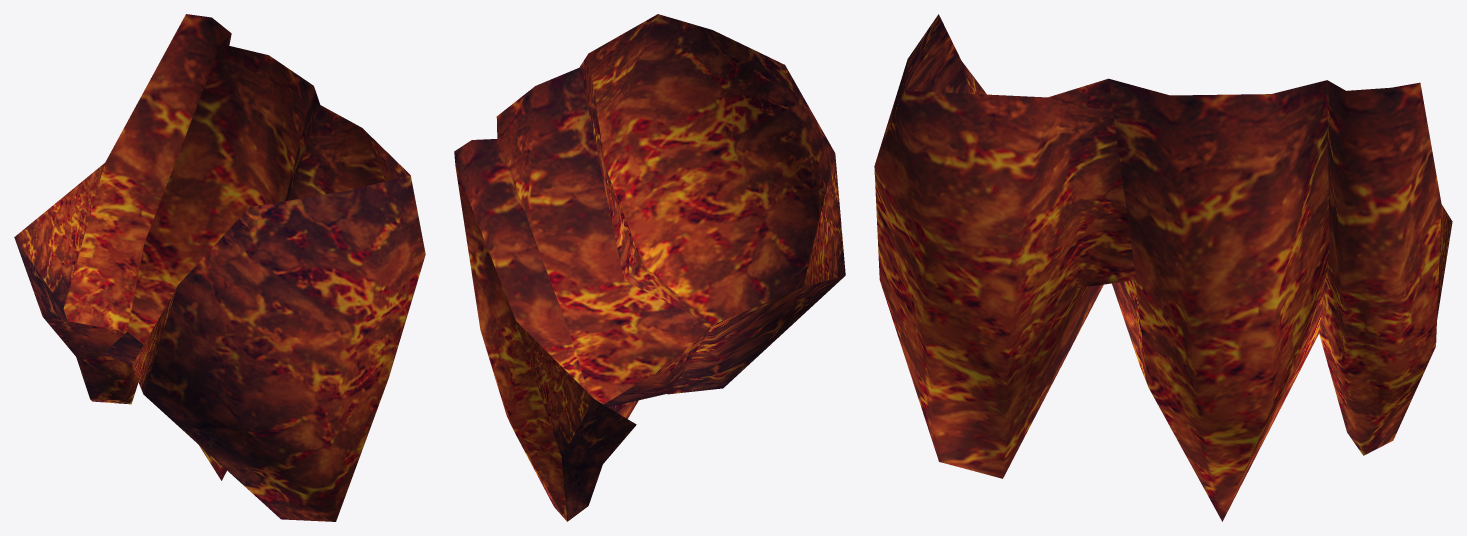
The model's file is Scene_rongyan_003.FBX.
3 renders of one model, left to right at view 1: azimuth 30°, elevation 25°; view 2: azimuth 150°, elevation 25°; view 3: azimuth 270°, elevation 25°, orthographic. The views are drawn at different scales.
Visible parts, largest first — view 1: Scene_rongyan_003; view 2: Scene_rongyan_003; view 3: Scene_rongyan_003.
Boxes of the visible parts, x1,y1,x2,y2 form: Scene_rongyan_003: (14, 14, 425, 521); Scene_rongyan_003: (454, 14, 845, 521); Scene_rongyan_003: (874, 14, 1452, 521).
Bounding box in the file's own units: 3.82 × 5.37 × 5.95.
